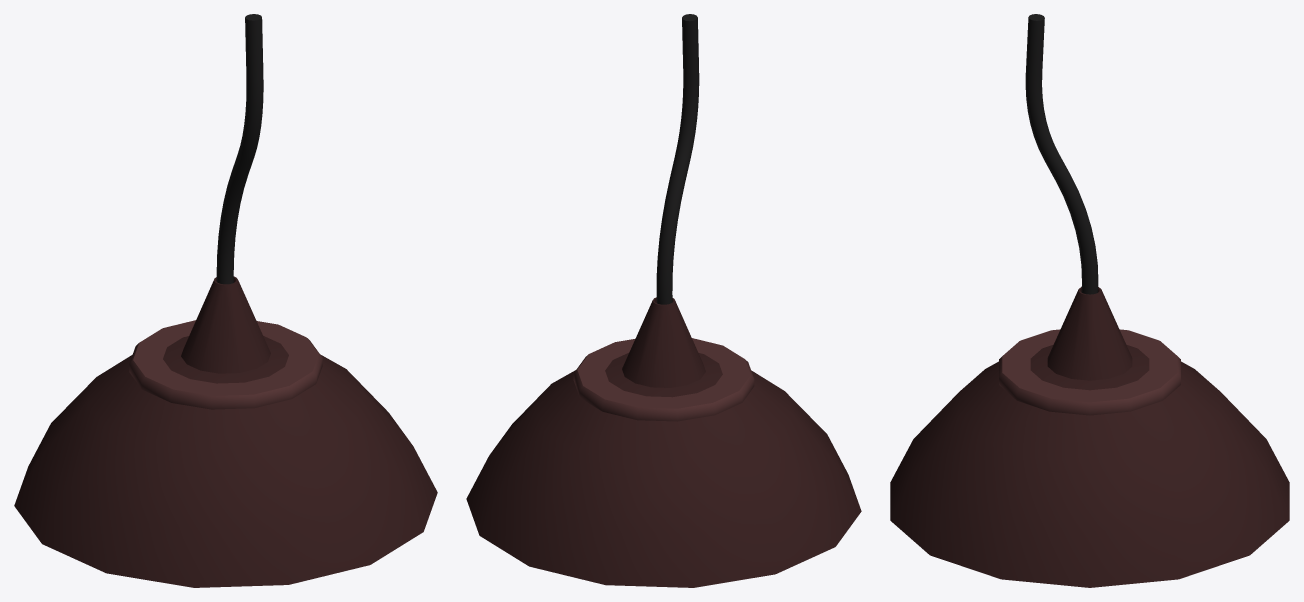
The model's file is lampara.fbx.
3 renders of one model, left to right at view 1: azimuth 30°, elevation 25°; view 2: azimuth 150°, elevation 25°; view 3: azimuth 270°, elevation 25°, orthographic. The views are drawn at different scales.
Parts seen in each view (by area): view 1: Lampara; view 2: Lampara; view 3: Lampara.
Part boxes in pixels (box(x1,y1,x2,y2)): Lampara: box(14, 14, 437, 587); Lampara: box(466, 14, 861, 587); Lampara: box(890, 14, 1289, 587).
Size of the model in its own units: 59.7 by 77.93 by 58.2.
